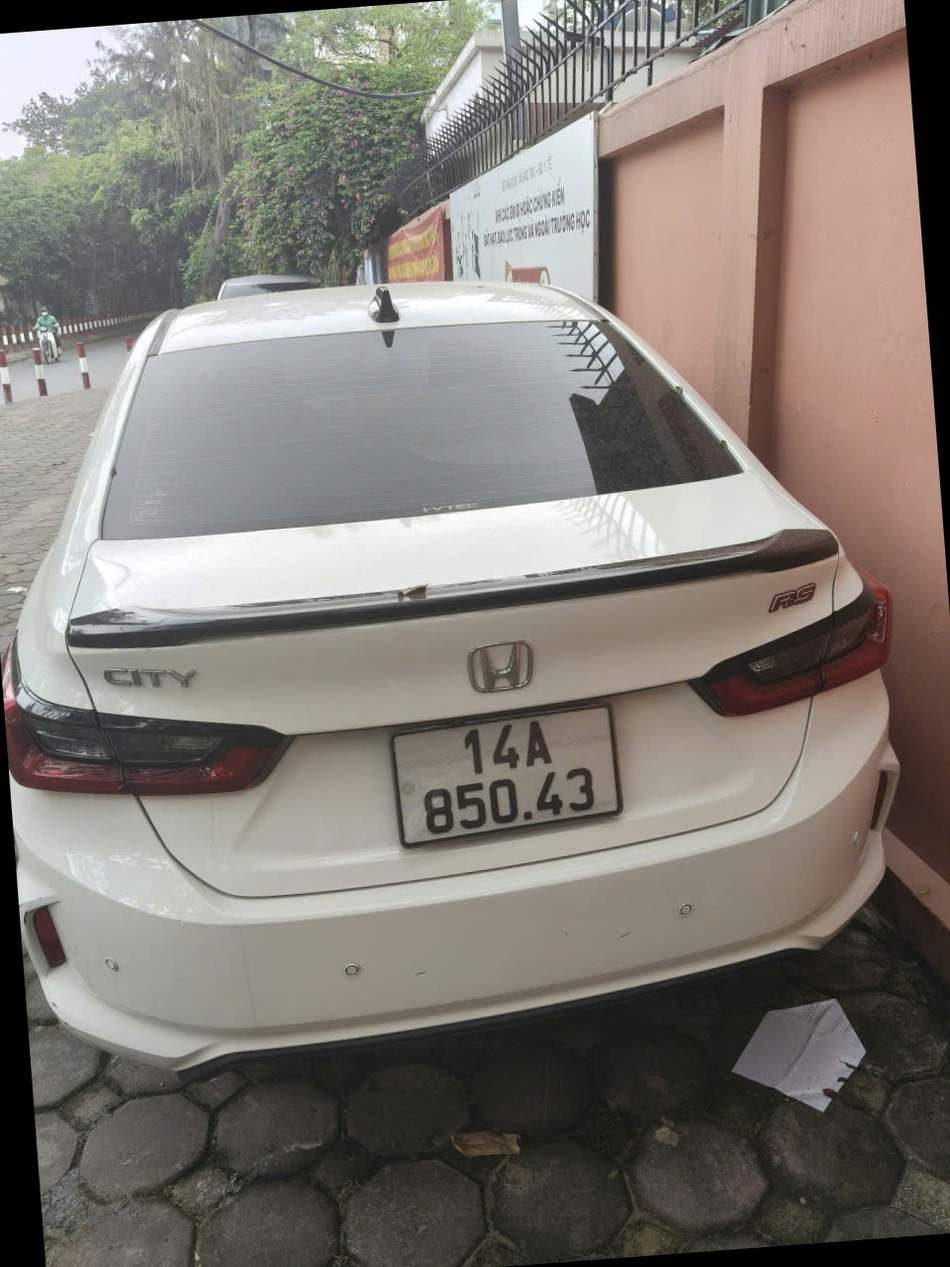plate: (97, 659, 202, 695)
